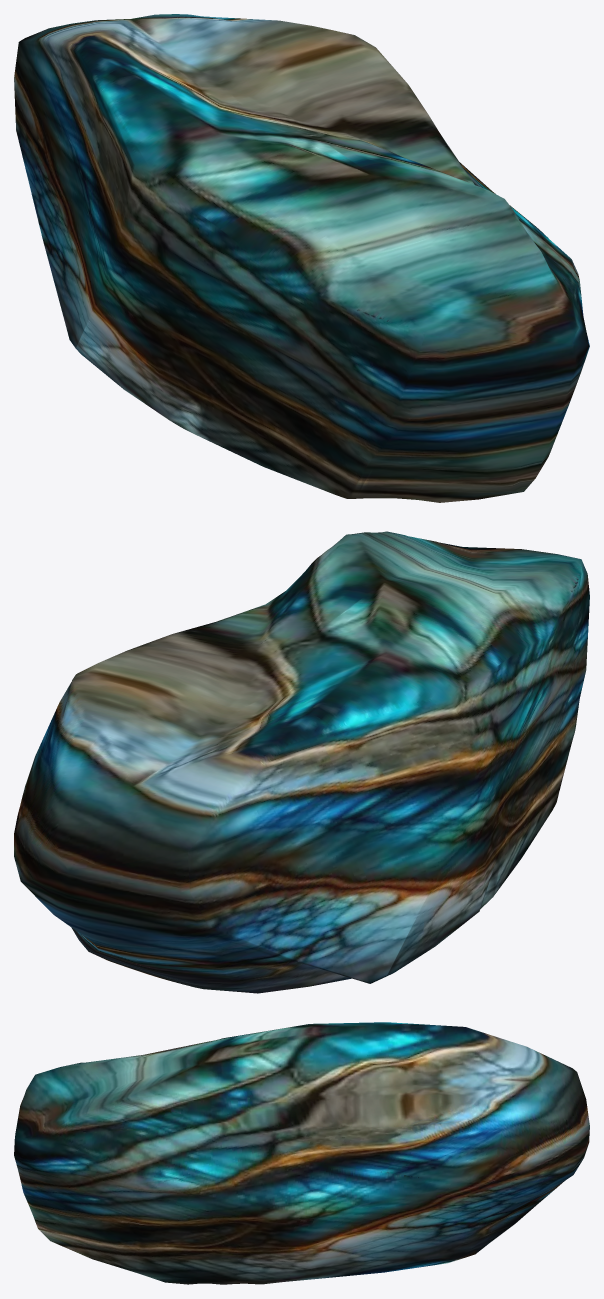
File: labradorite.glb
The picture shows the model from 3 angles, top to bottom: view 1: azimuth 30°, elevation 25°; view 2: azimuth 150°, elevation 25°; view 3: azimuth 270°, elevation 25°; orthographic projection. The views are drawn at different scales.
Visible parts, largest first — view 1: Icosphere.278_Material.001_0; view 2: Icosphere.278_Material.001_0; view 3: Icosphere.278_Material.001_0.
Part boxes in pixels (box(x1,y1,x2,y2)): Icosphere.278_Material.001_0: box(14, 14, 589, 502); Icosphere.278_Material.001_0: box(14, 531, 589, 993); Icosphere.278_Material.001_0: box(14, 1022, 589, 1284).
Bounding box in the file's own units: 2.64 × 1.82 × 5.23.
1 material, 1 textured.
